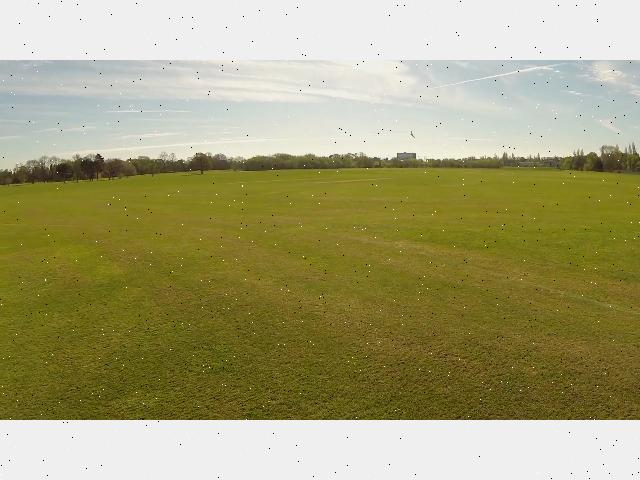Anti-Drone: (408, 125, 422, 143)
